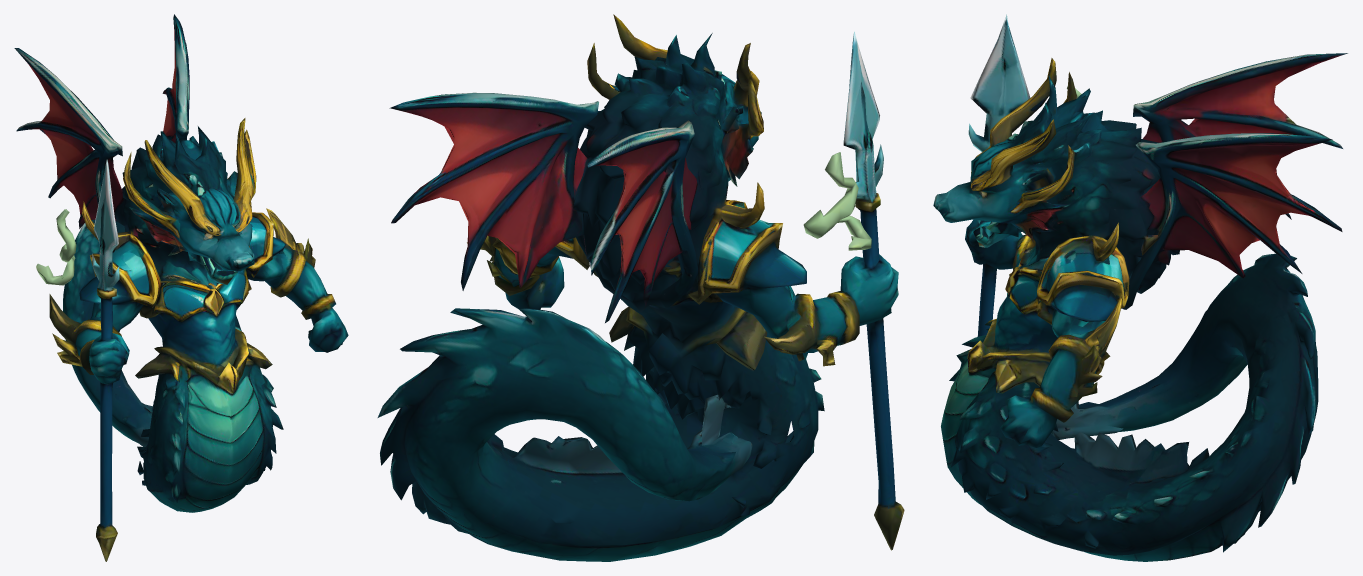
3 renders of one model, left to right at view 1: azimuth 30°, elevation 25°; view 2: azimuth 150°, elevation 25°; view 3: azimuth 270°, elevation 25°, orthographic. The views are drawn at different scales.
Visible parts, largest first — view 1: tripo_node_e7437266-faba-4211-a9dd-d3f7d2965e57; view 2: tripo_node_e7437266-faba-4211-a9dd-d3f7d2965e57; view 3: tripo_node_e7437266-faba-4211-a9dd-d3f7d2965e57.
Part boxes in pixels (bbox=[...]): tripo_node_e7437266-faba-4211-a9dd-d3f7d2965e57: bbox=[14, 14, 348, 561]; tripo_node_e7437266-faba-4211-a9dd-d3f7d2965e57: bbox=[377, 14, 904, 561]; tripo_node_e7437266-faba-4211-a9dd-d3f7d2965e57: bbox=[933, 14, 1347, 561].
Bounding box in the file's own units: 0.7712 × 1.01 × 0.8276.
1 material, 1 textured.
